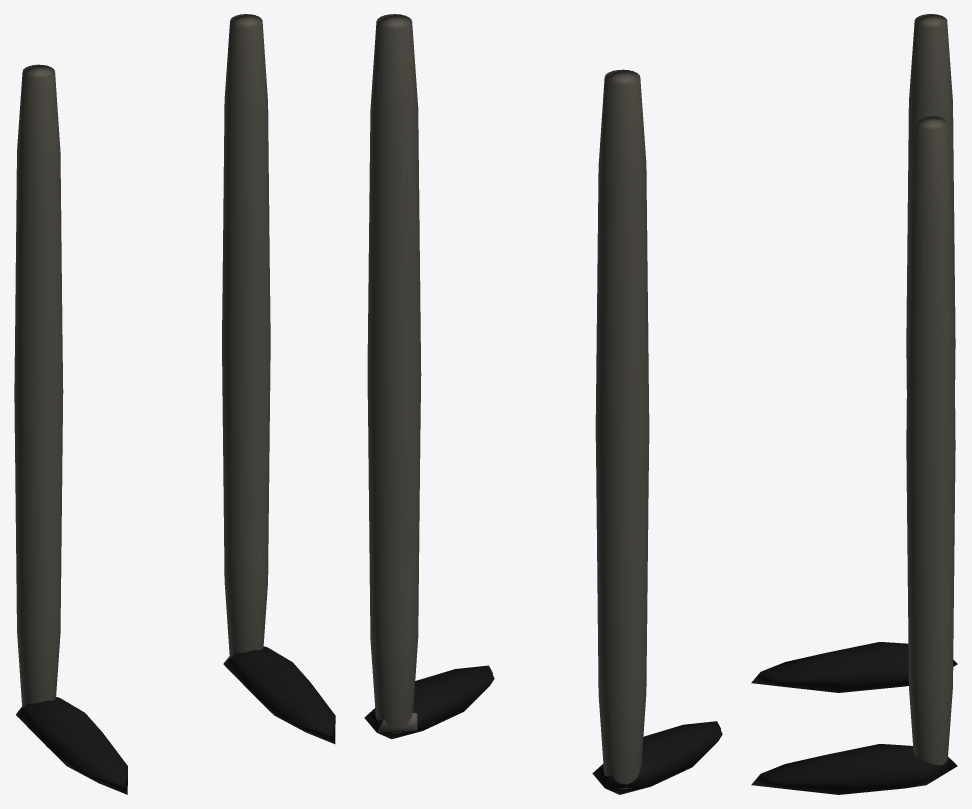
The model's file is PiernasLimonagrio_obj.obj.
3 renders of one model, left to right at view 1: azimuth 30°, elevation 25°; view 2: azimuth 150°, elevation 25°; view 3: azimuth 270°, elevation 25°, orthographic. The views are drawn at different scales.
Parts seen in each view (by area): view 1: Piernas; view 2: Piernas; view 3: Piernas.
Part boxes in pixels (<box>): Piernas: <box>14,14,335,794</box>; Piernas: <box>364,14,722,794</box>; Piernas: <box>751,14,957,794</box>.
Bounding box in the file's own units: 2.19 × 5.24 × 1.48.
